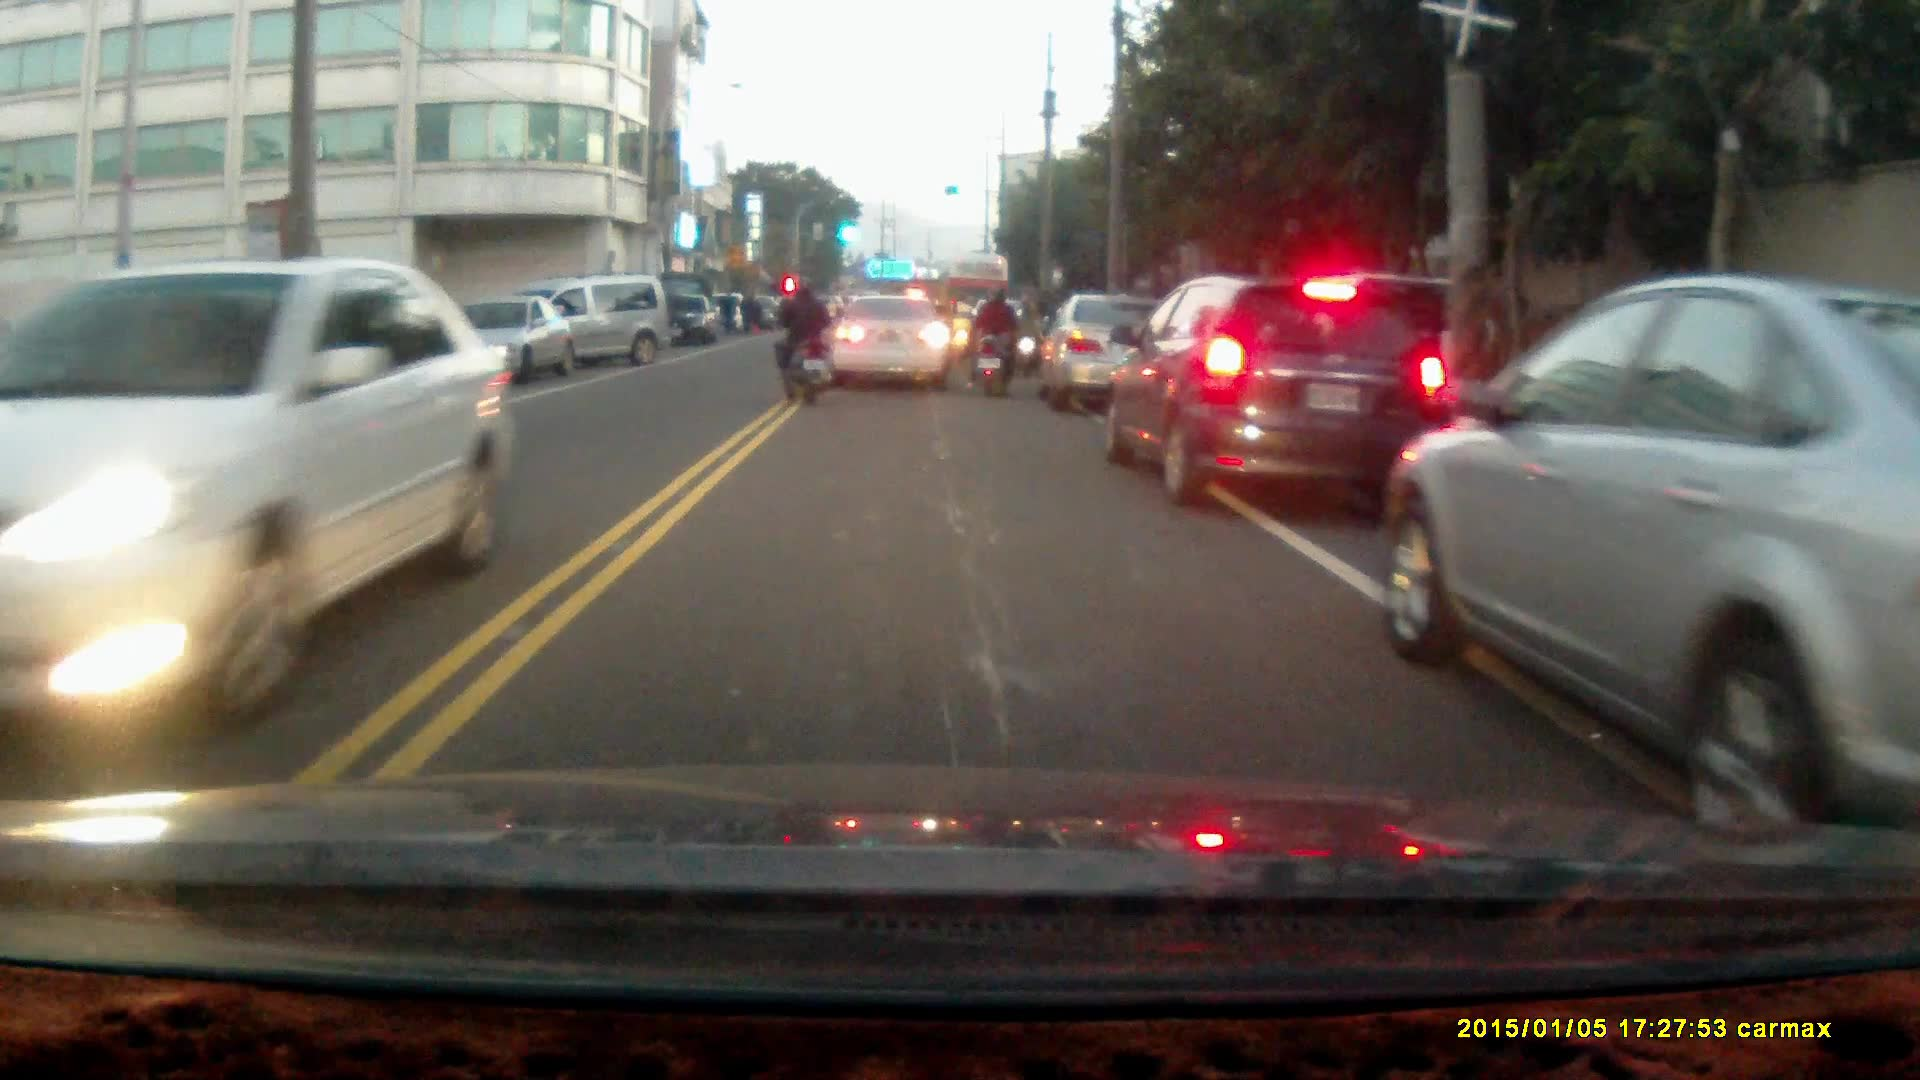rider: (771, 278, 831, 403), (966, 280, 1023, 397)
vehicle: (1392, 267, 1920, 832), (1, 257, 527, 736), (1095, 266, 1447, 504), (416, 290, 580, 388), (1043, 294, 1165, 412), (530, 273, 670, 370), (831, 289, 950, 395), (664, 292, 719, 345)
